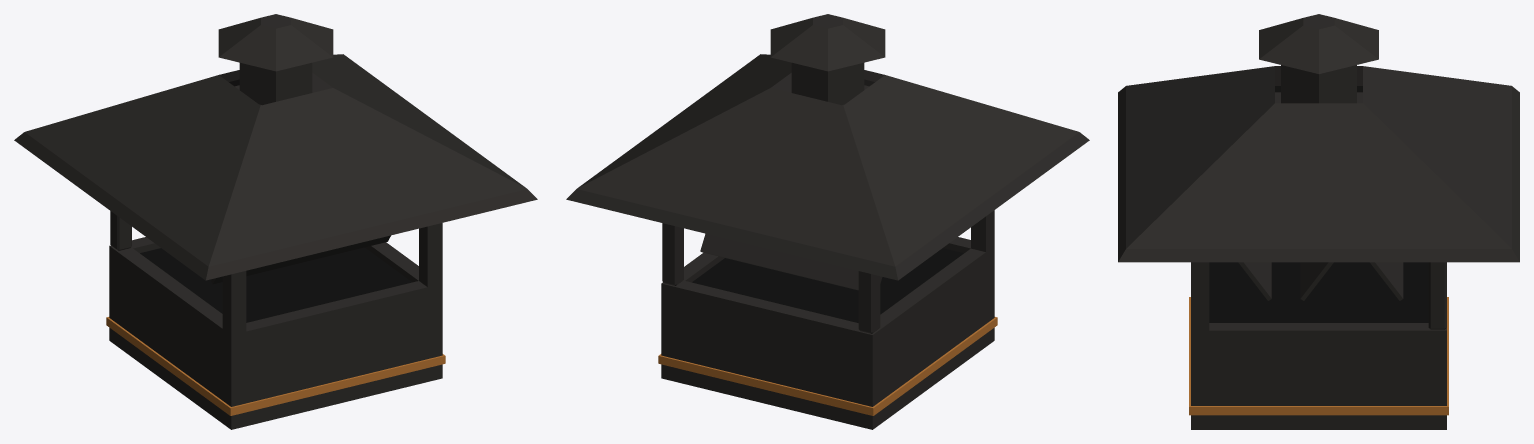
The model's file is Prop_Forge_SmokeFilter_LOD1.glb.
3 renders of one model, left to right at view 1: azimuth 30°, elevation 25°; view 2: azimuth 150°, elevation 25°; view 3: azimuth 270°, elevation 25°, orthographic. The views are drawn at different scales.
Visible parts, largest first — view 1: Prop_Forge_SmokeFilter; view 2: Prop_Forge_SmokeFilter; view 3: Prop_Forge_SmokeFilter.
Part boxes in pixels (x1,y1,x2,y2): Prop_Forge_SmokeFilter: (14,14,537,429); Prop_Forge_SmokeFilter: (566,14,1089,429); Prop_Forge_SmokeFilter: (1118,14,1519,429).
Bounding box in the file's own units: 1.1 × 1.07 × 1.1.
